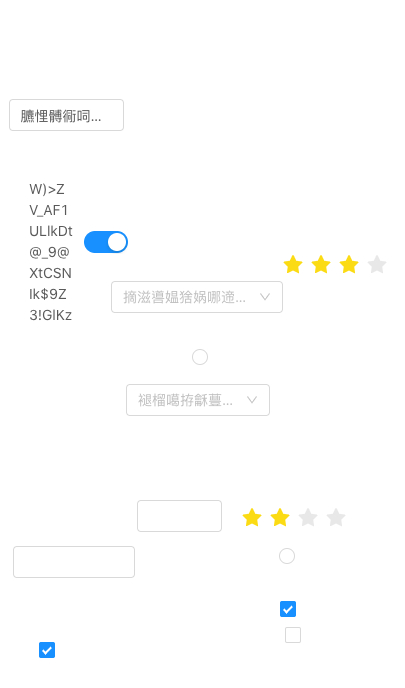Checkbox: (285, 624, 301, 645), (39, 639, 55, 660), (280, 598, 296, 619)
Input: (13, 546, 135, 578), (9, 99, 124, 131), (137, 500, 222, 532)
Radio: (279, 545, 295, 565), (192, 346, 208, 366)
Rate: (242, 501, 362, 533), (283, 248, 403, 280)
Select: (111, 281, 283, 313), (126, 384, 270, 416)
Switch: (84, 230, 128, 254)
Text: (29, 178, 73, 322)
